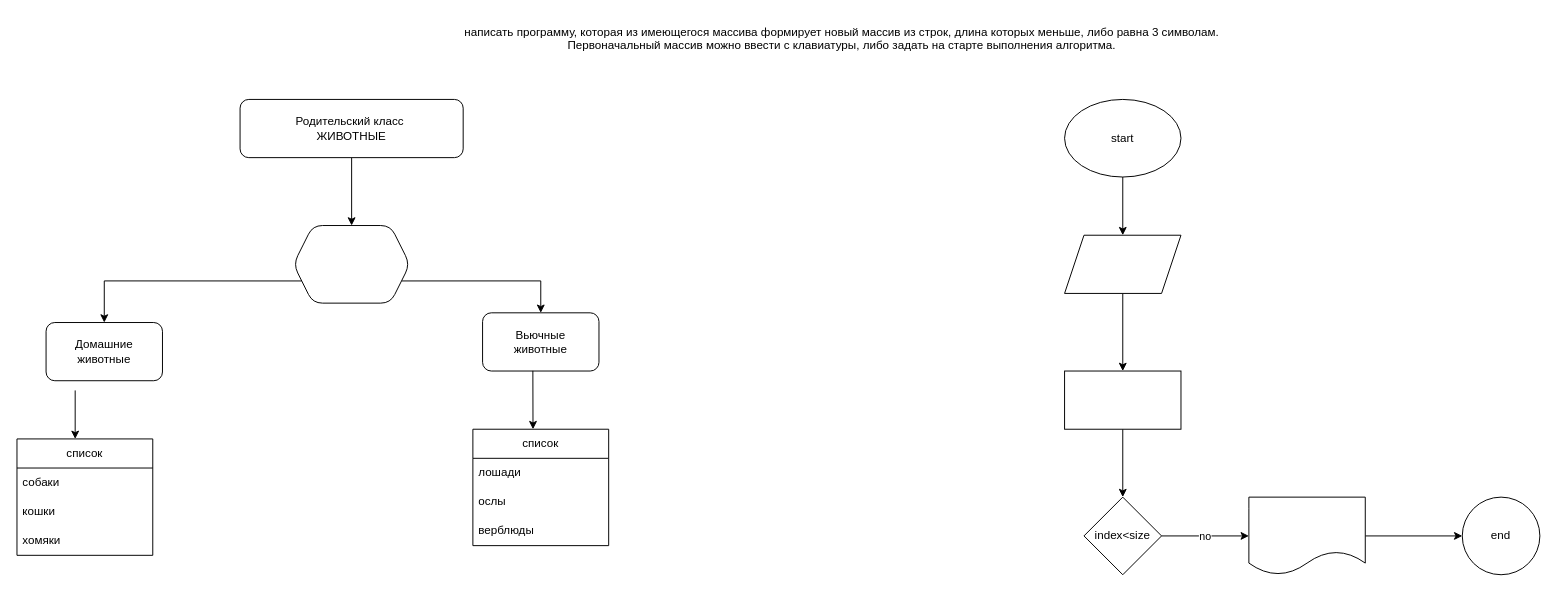
Some shapes in this 1557 by 592 pixel diagram are drawn without their labels. Each missing label, with the centre of its shape:
array[]: the point at 1122,263
arrayConvert[]: the point at 1306,535
size=array.length index=0 arrayConvert[]=[]: the point at 1122,399
Дочерние класс: the point at 351,264
